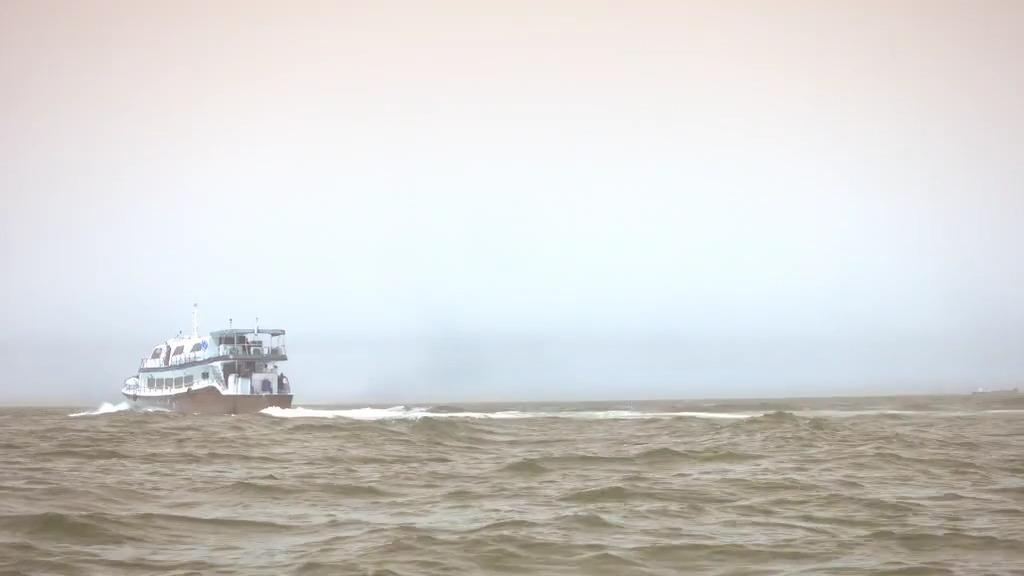PassengerShip: (117, 297, 301, 419)
